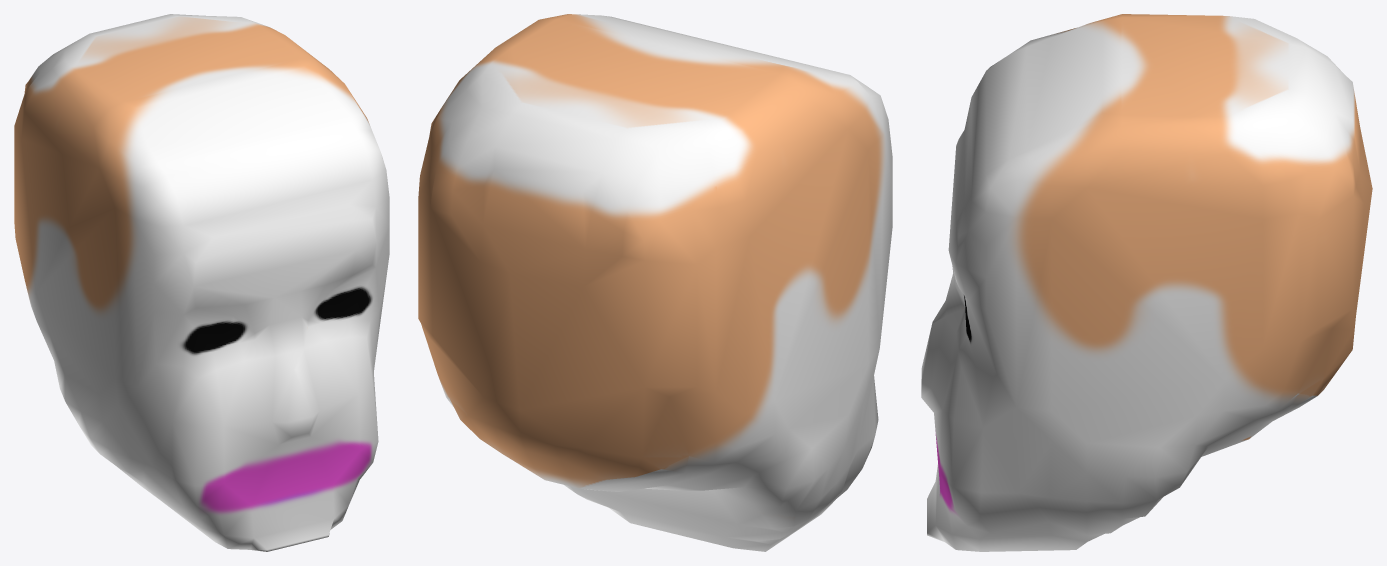
Rendered from head smooth.fbx.
The picture shows the model from 3 angles, left to right: view 1: azimuth 30°, elevation 25°; view 2: azimuth 150°, elevation 25°; view 3: azimuth 270°, elevation 25°; orthographic projection. The views are drawn at different scales.
Parts seen in each view (by area): view 1: ObjObject.001; view 2: ObjObject.001; view 3: ObjObject.001.
Boxes of the visible parts, left/top/right/bottom form: ObjObject.001: left=14, top=14, right=389, bottom=551; ObjObject.001: left=418, top=14, right=892, bottom=551; ObjObject.001: left=921, top=14, right=1372, bottom=551.
Size of the model in its own units: 412 by 602 by 543.
